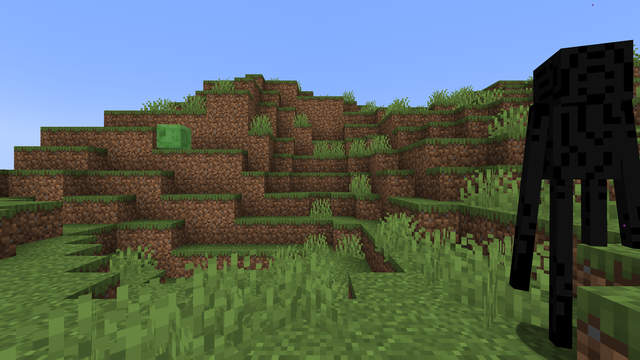endermens: (521, 30, 628, 356)
slimes: (155, 123, 191, 149)
